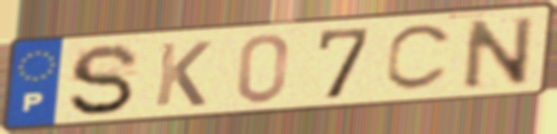0: (234, 32, 293, 106)
7: (313, 26, 371, 101)
C: (381, 21, 458, 94)
K: (151, 38, 215, 109)
N: (461, 12, 537, 92)
S: (65, 42, 144, 118)
